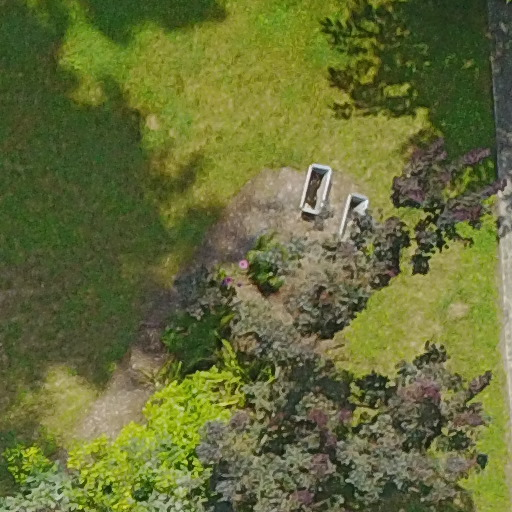container: (289, 159, 336, 229), (338, 186, 375, 252)
